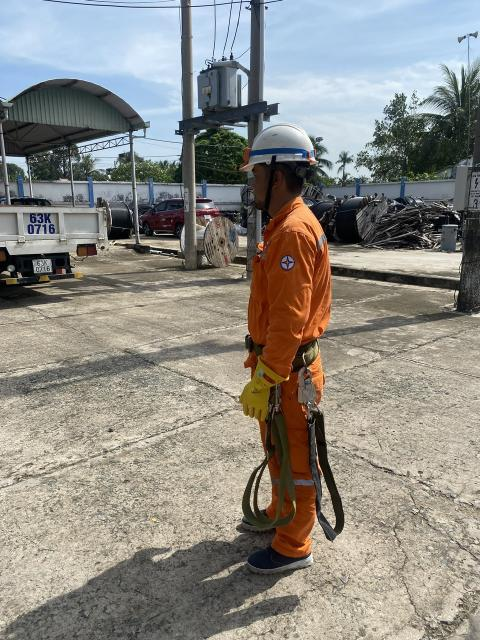gloves: (238, 355, 299, 424)
harness: (244, 328, 333, 377)
helmet: (242, 108, 350, 173)
shoes: (227, 498, 306, 537), (236, 541, 323, 573)
